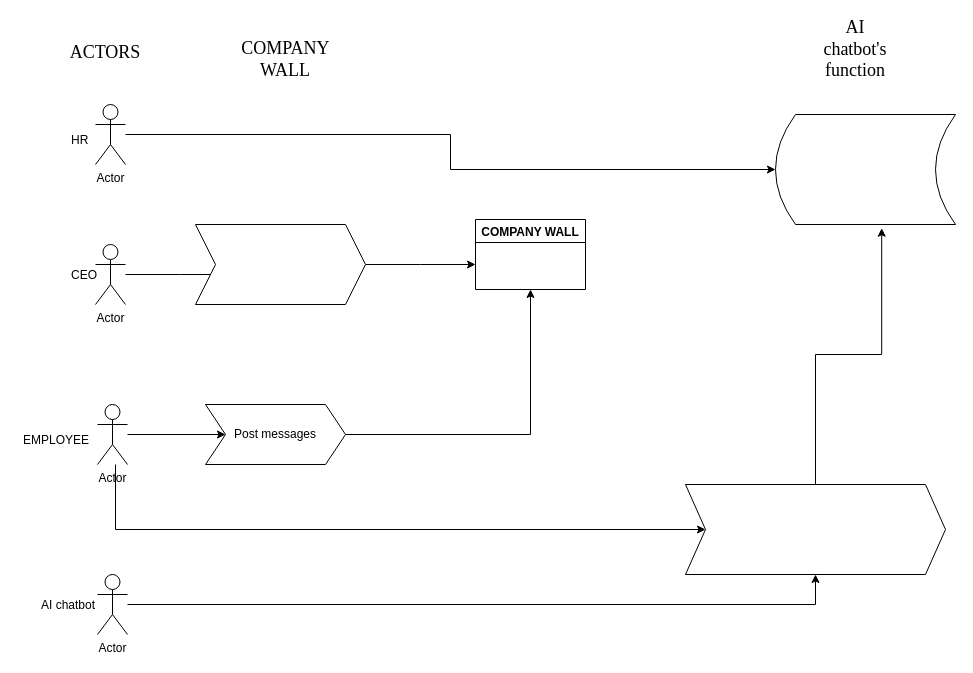
This 973x673 diagram has some shape labels left out. The centre of each missing label's shape, as x and y in pixels:
"AI Interacts with employee, collect data and generate statistics" belongs at [815,529].
"Respond to messages" belongs at [280,264].
"Stats generated and can be viewed by HR" belongs at [865,169].
